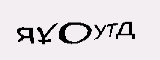Д: (117, 18, 135, 40)
О: (58, 18, 93, 46)
Т: (106, 20, 119, 38)
У: (93, 21, 107, 41)
Я: (11, 24, 38, 46)
Ұ: (36, 22, 59, 46)
